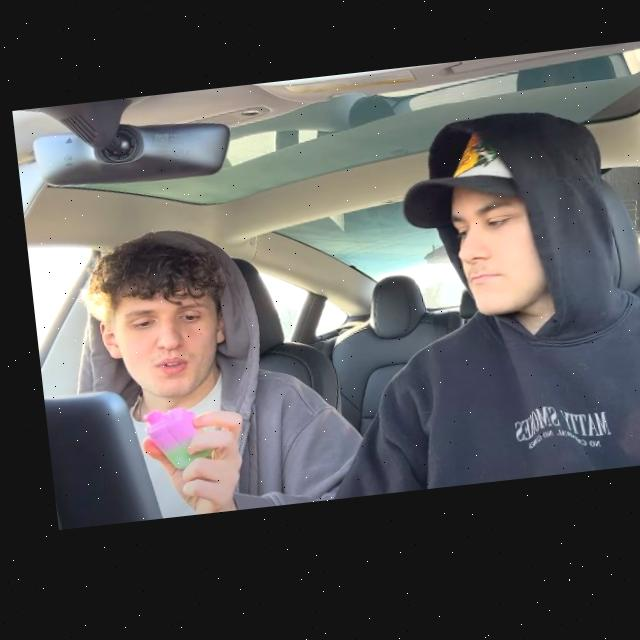vape: (133, 407, 204, 474)
